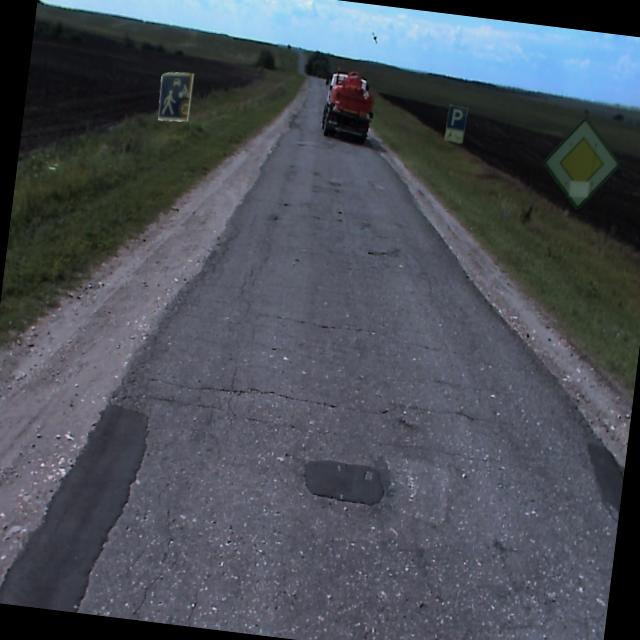road: (0, 78, 622, 640)
